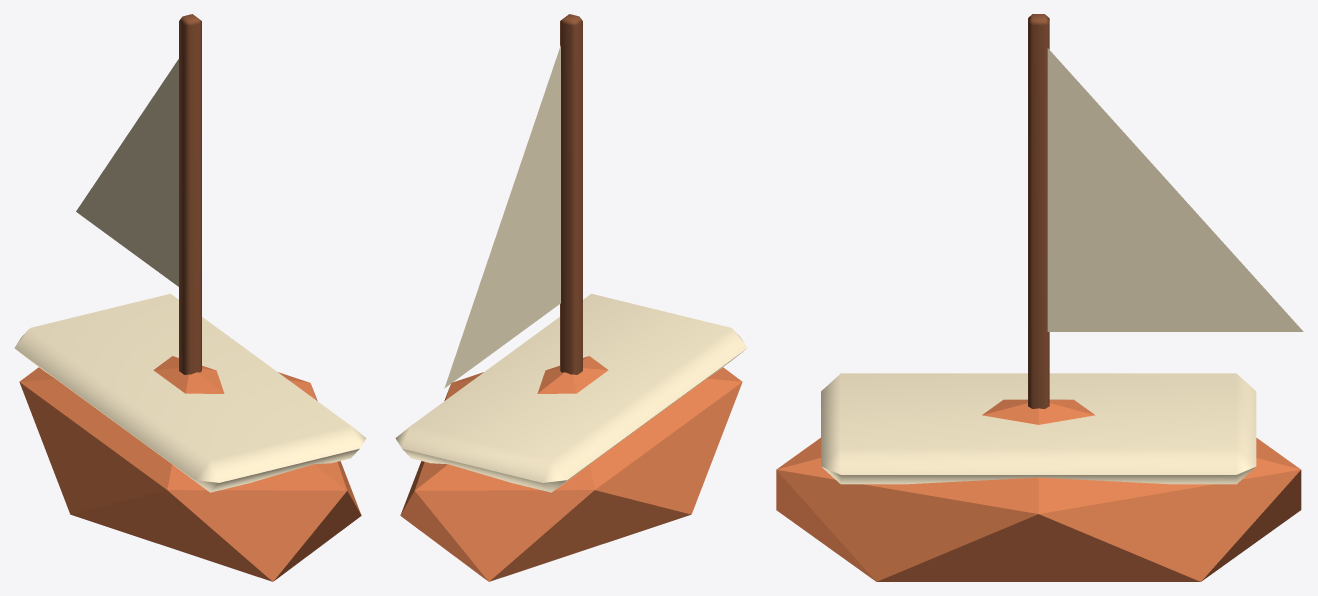
File: boat.glb
3 views of the same model, side by side, from view 1: azimuth 30°, elevation 25°; view 2: azimuth 150°, elevation 25°; view 3: azimuth 270°, elevation 25° (orthographic). The views are drawn at different scales.
Visible parts, largest first — view 1: Deck, Hull, Sail, Mast; view 2: Deck, Hull, Sail, Mast; view 3: Hull, Deck, Sail, Mast.
Boxes of the visible parts, x1,y1,x2,y2 form: Deck: (14,293,366,492); Hull: (19,356,361,581); Sail: (76,59,178,286); Mast: (179,14,201,374); Deck: (395,293,747,492); Hull: (400,356,742,581); Sail: (444,45,560,388); Mast: (560,14,582,374); Hull: (776,399,1301,581); Deck: (821,373,1256,484); Sail: (1047,48,1303,331); Mast: (1028,14,1049,408).
Bounding box in the file's own units: 0.7692 × 1.57 × 1.33.
